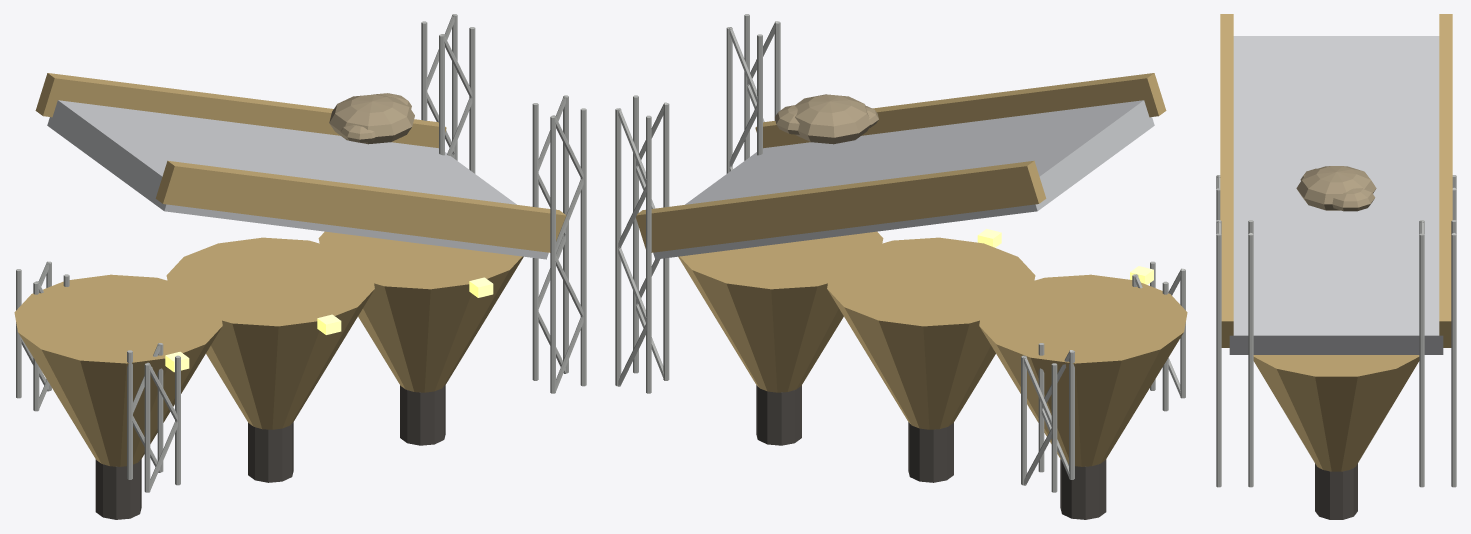
File: ore_sorter.glb
The picture shows the model from 3 angles, left to right: view 1: azimuth 30°, elevation 25°; view 2: azimuth 150°, elevation 25°; view 3: azimuth 270°, elevation 25°; orthographic projection. The views are drawn at different scales.
Parts seen in each view (by area): view 1: screen, hopper1, hopper0, hopper2, screen_rail_s, screen_rail_p, leg4b, leg4, leg-3b, feed_0, chute1, chute2 (+2 smaller); view 2: screen, hopper1, hopper0, screen_rail_p, hopper2, screen_rail_s, leg4, leg-3, leg4b, feed_0, chute1, chute2 (+2 smaller); view 3: screen, hopper2, screen_rail_p, screen_rail_s, leg4, leg4b, feed_0, chute2, feed_1.
Part boxes in pixels (<box>): screen: <box>47,100,548,259</box>; hopper1: <box>166,237,374,429</box>; hopper0: <box>14,274,222,466</box>; hopper2: <box>318,231,523,392</box>; screen_rail_s: <box>155,160,566,252</box>; screen_rail_p: <box>35,73,446,148</box>; leg4b: <box>532,95,586,393</box>; leg4: <box>421,14,475,173</box>; leg-3b: <box>127,343,180,492</box>; feed_0: <box>329,94,414,144</box>; chute1: <box>248,422,293,482</box>; chute2: <box>400,385,445,445</box>; screen: <box>653,100,1154,259</box>; hopper1: <box>827,237,1035,429</box>; hopper0: <box>979,274,1187,466</box>; screen_rail_p: <box>636,160,1046,252</box>; hopper2: <box>678,231,883,392</box>; screen_rail_s: <box>755,73,1166,148</box>; leg4: <box>615,95,669,393</box>; leg-3: <box>1021,343,1074,492</box>; leg4b: <box>726,14,780,173</box>; feed_0: <box>795,94,870,144</box>; chute1: <box>908,422,953,482</box>; chute2: <box>756,385,801,445</box>; screen: <box>1229,36,1443,354</box>; hopper2: <box>1253,355,1419,471</box>; screen_rail_p: <box>1439,14,1452,347</box>; screen_rail_s: <box>1220,14,1233,347</box>; leg4: <box>1419,220,1456,487</box>; leg4b: <box>1216,220,1253,487</box>; feed_0: <box>1296,166,1376,210</box>; chute2: <box>1315,463,1357,519</box>; feed_1: <box>1332,188,1375,211</box>.
Bounding box in the file's own units: 9.7 × 7.4 × 4.5.
